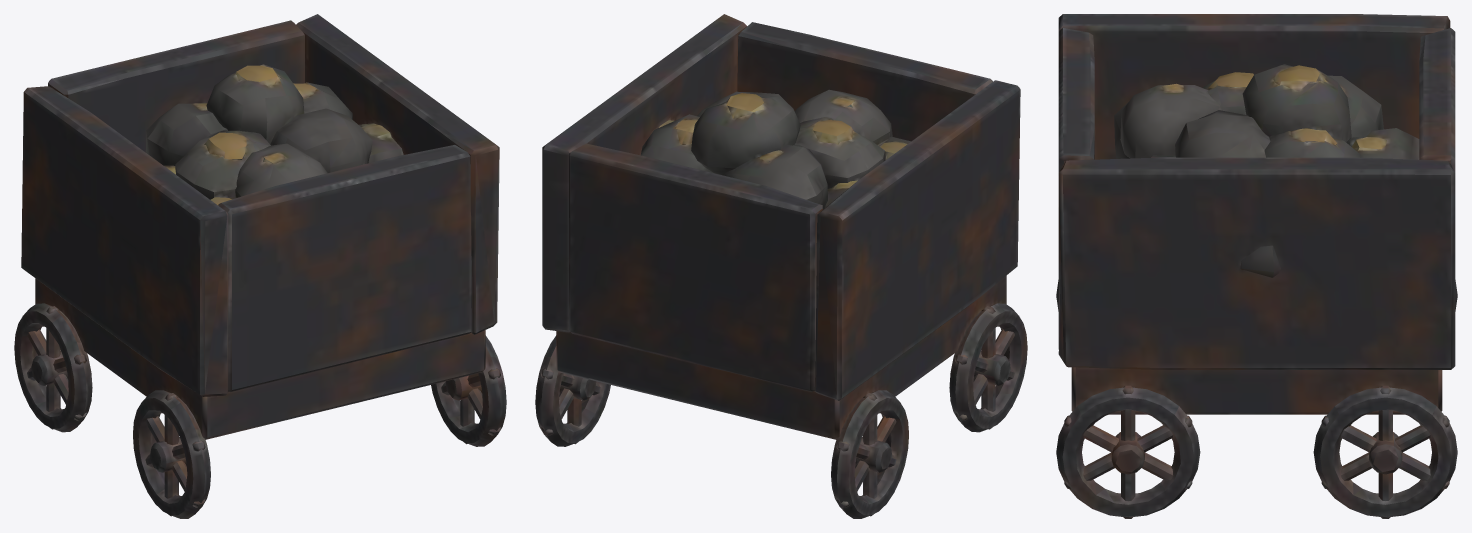
File: mine_cart.glb
The picture shows the model from 3 angles, left to right: view 1: azimuth 30°, elevation 25°; view 2: azimuth 150°, elevation 25°; view 3: azimuth 270°, elevation 25°; orthographic projection. The views are drawn at different scales.
Parts seen in each view (by area): view 1: mine_cart; view 2: mine_cart; view 3: mine_cart.
Part boxes in pixels (<box>): mine_cart: <box>14,14,506,518</box>; mine_cart: <box>535,14,1027,518</box>; mine_cart: <box>1056,14,1457,518</box>.
Size of the model in its own units: 0.8002 by 0.8097 by 0.78.
1 material, 1 textured.
